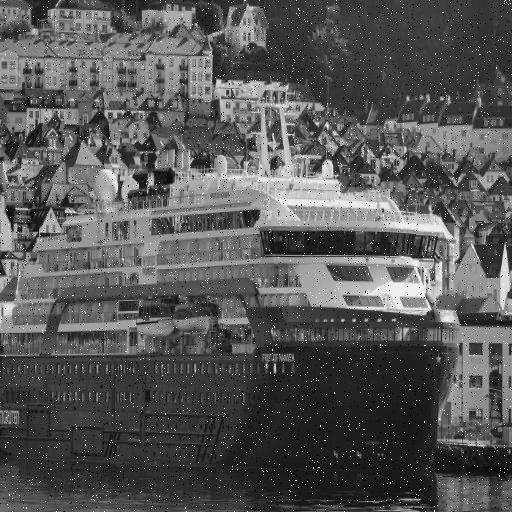cruises: (1, 101, 465, 488)
